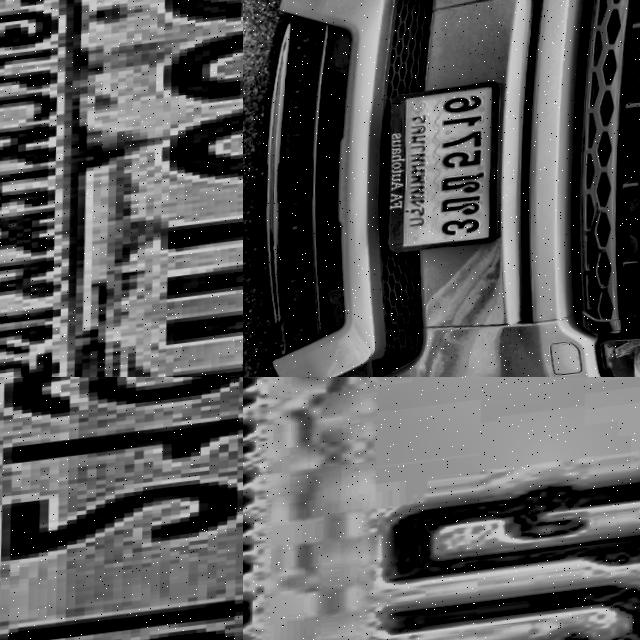license-plate: (243, 377, 640, 640), (0, 0, 243, 377), (0, 377, 243, 640), (385, 85, 507, 260)
